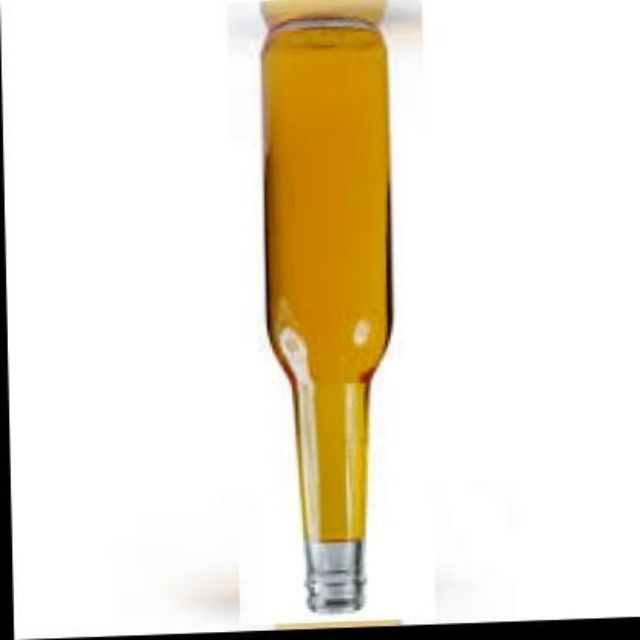trash: (262, 0, 391, 612)
